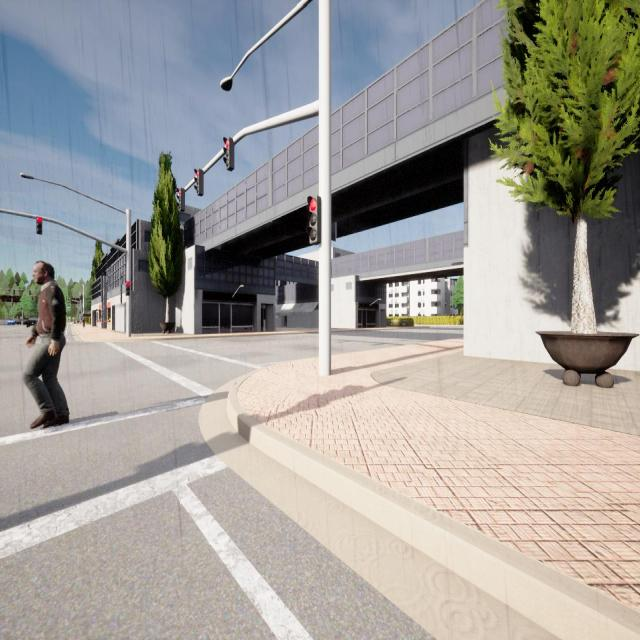Pedestrian: (24, 260, 69, 430), (82, 313, 85, 328)
Vehicle: (26, 318, 38, 328), (7, 318, 15, 326), (16, 318, 22, 326), (23, 318, 28, 325)
traffic_light: (307, 196, 321, 245), (223, 137, 235, 171), (194, 168, 204, 196), (177, 188, 185, 212), (36, 216, 42, 235), (125, 281, 130, 296), (32, 296, 34, 300), (13, 290, 15, 294), (29, 291, 31, 295), (81, 294, 82, 300), (80, 295, 81, 300)
